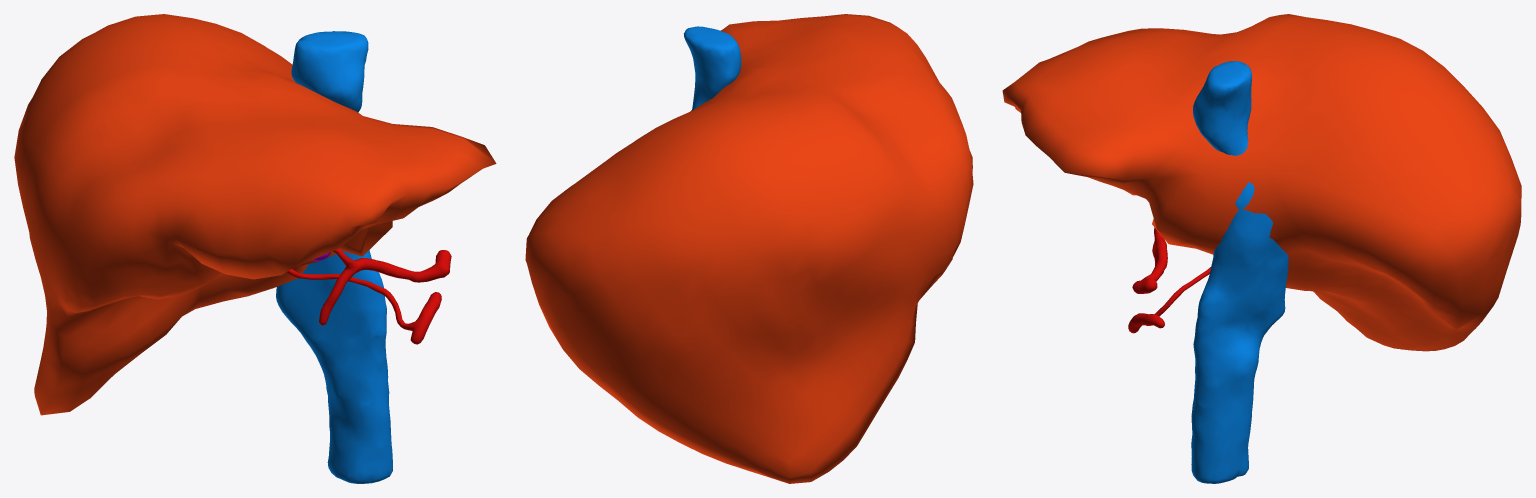
Rendered from LiverForColliders_1_5_LeverWithInsidePart.fbx.
The picture shows the model from 3 angles, left to right: view 1: azimuth 30°, elevation 25°; view 2: azimuth 150°, elevation 25°; view 3: azimuth 270°, elevation 25°; orthographic projection. The views are drawn at different scales.
Parts seen in each view (by area): view 1: Parenchyma_complex_1, Parenchyma_complex_1.006, Parenchyma_complex_1.004, Parenchyma_complex_1.005; view 2: Parenchyma_complex_1, Parenchyma_complex_1.006; view 3: Parenchyma_complex_1, Parenchyma_complex_1.006, Parenchyma_complex_1.004, Parenchyma_complex_1.005.
Boxes of the visible parts, bbox=[...] form: Parenchyma_complex_1: bbox=[14, 14, 496, 415]; Parenchyma_complex_1.006: bbox=[276, 31, 392, 483]; Parenchyma_complex_1.004: bbox=[319, 248, 451, 325]; Parenchyma_complex_1.005: bbox=[287, 269, 441, 344]; Parenchyma_complex_1: bbox=[525, 14, 973, 483]; Parenchyma_complex_1.006: bbox=[684, 26, 741, 110]; Parenchyma_complex_1: bbox=[1002, 14, 1521, 351]; Parenchyma_complex_1.006: bbox=[1191, 61, 1288, 483]; Parenchyma_complex_1.004: bbox=[1132, 227, 1167, 293]; Parenchyma_complex_1.005: bbox=[1128, 267, 1210, 333].
Size of the model in its own units: 81.26 by 92.94 by 111.
